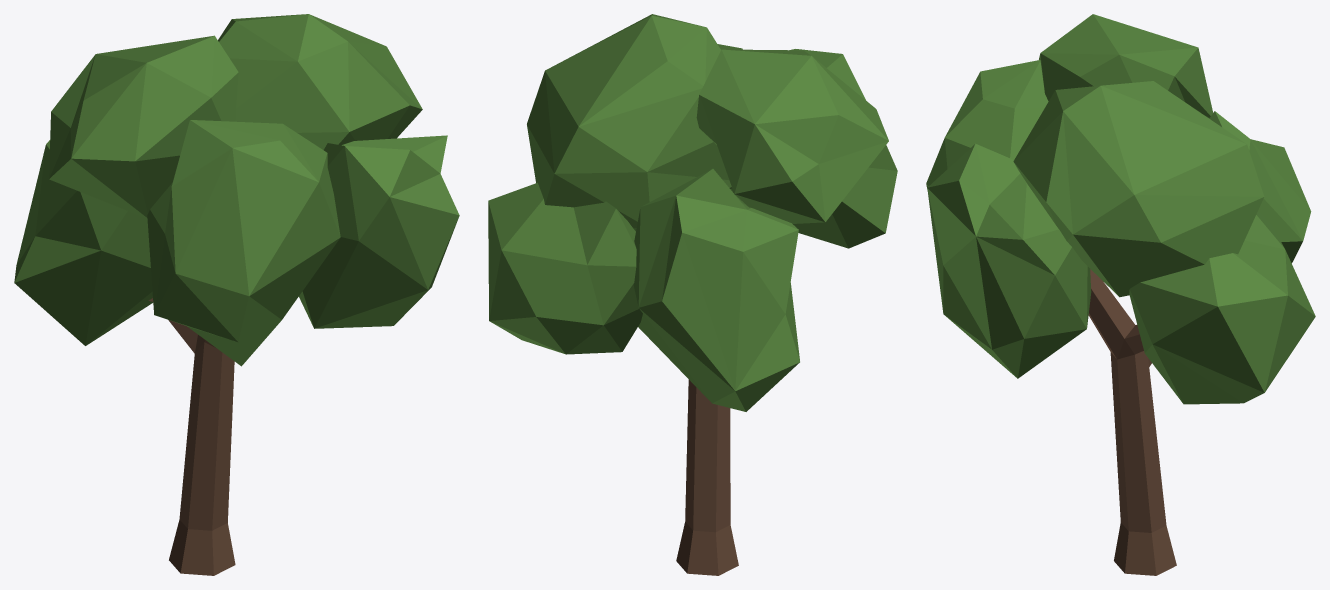
The model's file is tree8.fbx.
3 views of the same model, side by side, from view 1: azimuth 30°, elevation 25°; view 2: azimuth 150°, elevation 25°; view 3: azimuth 270°, elevation 25° (orthographic). The views are drawn at different scales.
Visible parts, largest first — view 1: tree8; view 2: tree8; view 3: tree8.
Boxes of the visible parts, <box> form: tree8: <box>14,14,459,575</box>; tree8: <box>488,14,897,575</box>; tree8: <box>926,14,1315,575</box>.
Size of the model in its own units: 232 by 339 by 232.
